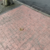others: (1, 1, 49, 17)
